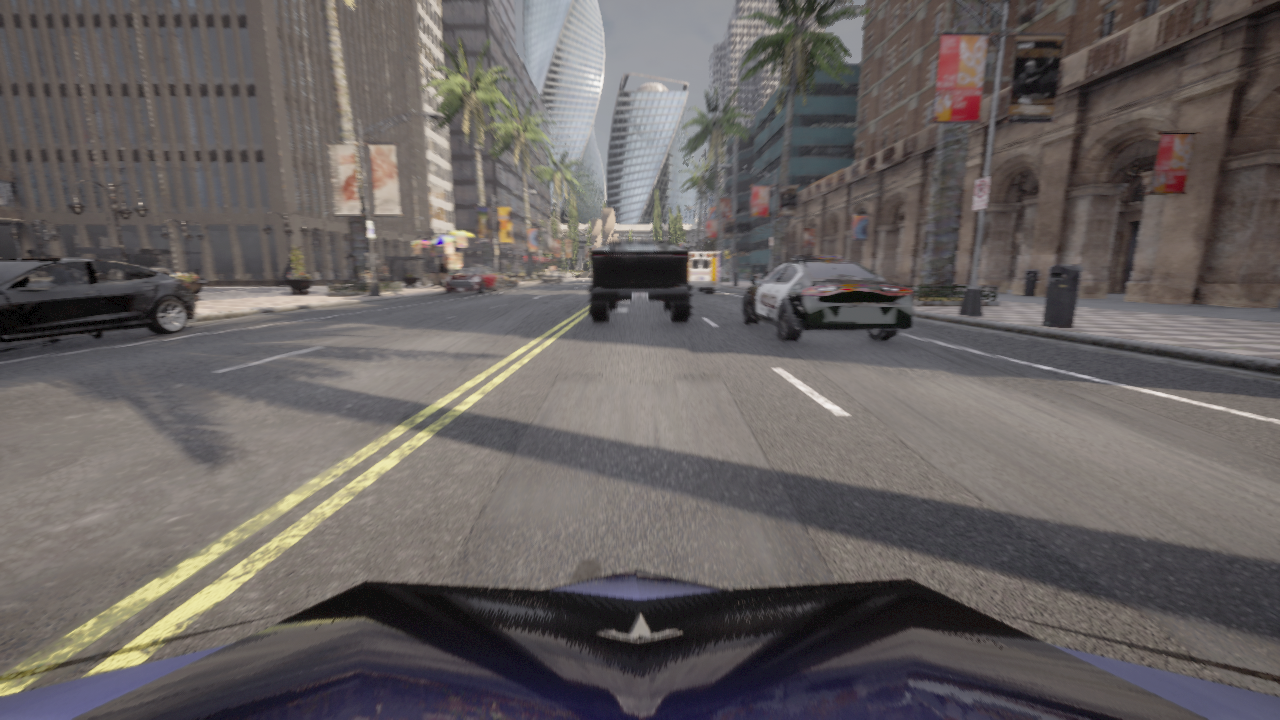cyclist: (0, 569, 1279, 719), (0, 258, 196, 344), (743, 256, 914, 341), (587, 241, 692, 322), (445, 266, 499, 293), (688, 252, 719, 292), (499, 275, 518, 289), (543, 271, 562, 283)
pedestrian: (380, 263, 389, 282)
